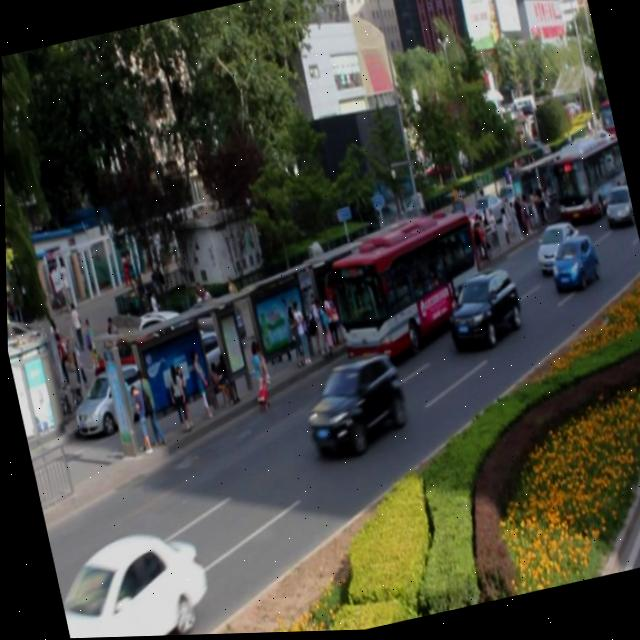car: (48, 521, 215, 639), (296, 353, 410, 465), (437, 267, 525, 357), (544, 236, 601, 297), (529, 222, 585, 280), (597, 188, 635, 233)
van: (321, 210, 491, 369), (545, 143, 630, 229)
